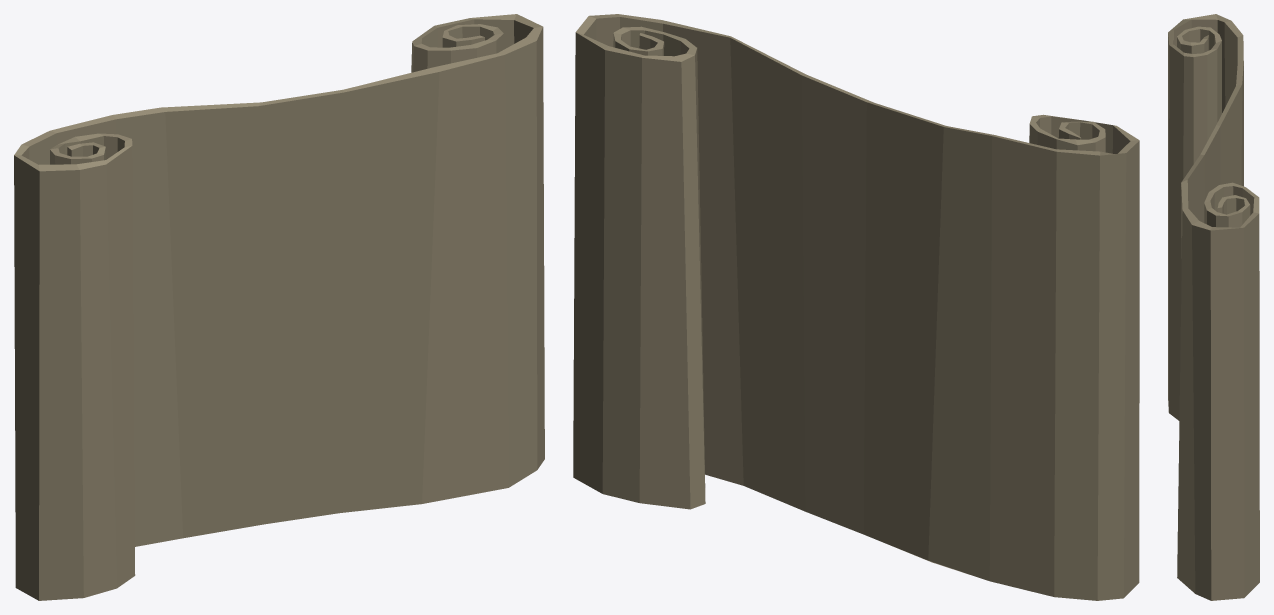
File: Pergamena_low.fbx
3 renders of one model, left to right at view 1: azimuth 30°, elevation 25°; view 2: azimuth 150°, elevation 25°; view 3: azimuth 270°, elevation 25°, orthographic. The views are drawn at different scales.
Parts seen in each view (by area): view 1: Pergamena_low; view 2: Pergamena_low; view 3: Pergamena_low.
Boxes of the visible parts, x1,y1,x2,y2 form: Pergamena_low: (14,14,544,600); Pergamena_low: (573,14,1139,600); Pergamena_low: (1168,14,1259,600).
Bounding box in the file's own units: 22.26 × 17.6 × 3.93.
